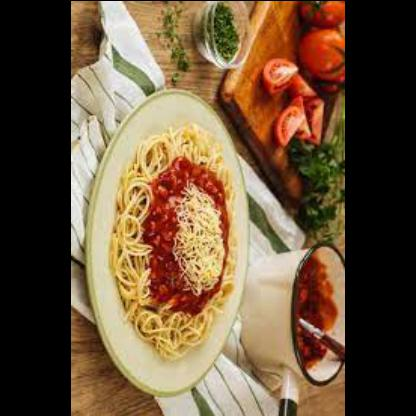spaghetti: (109, 123, 239, 361)
